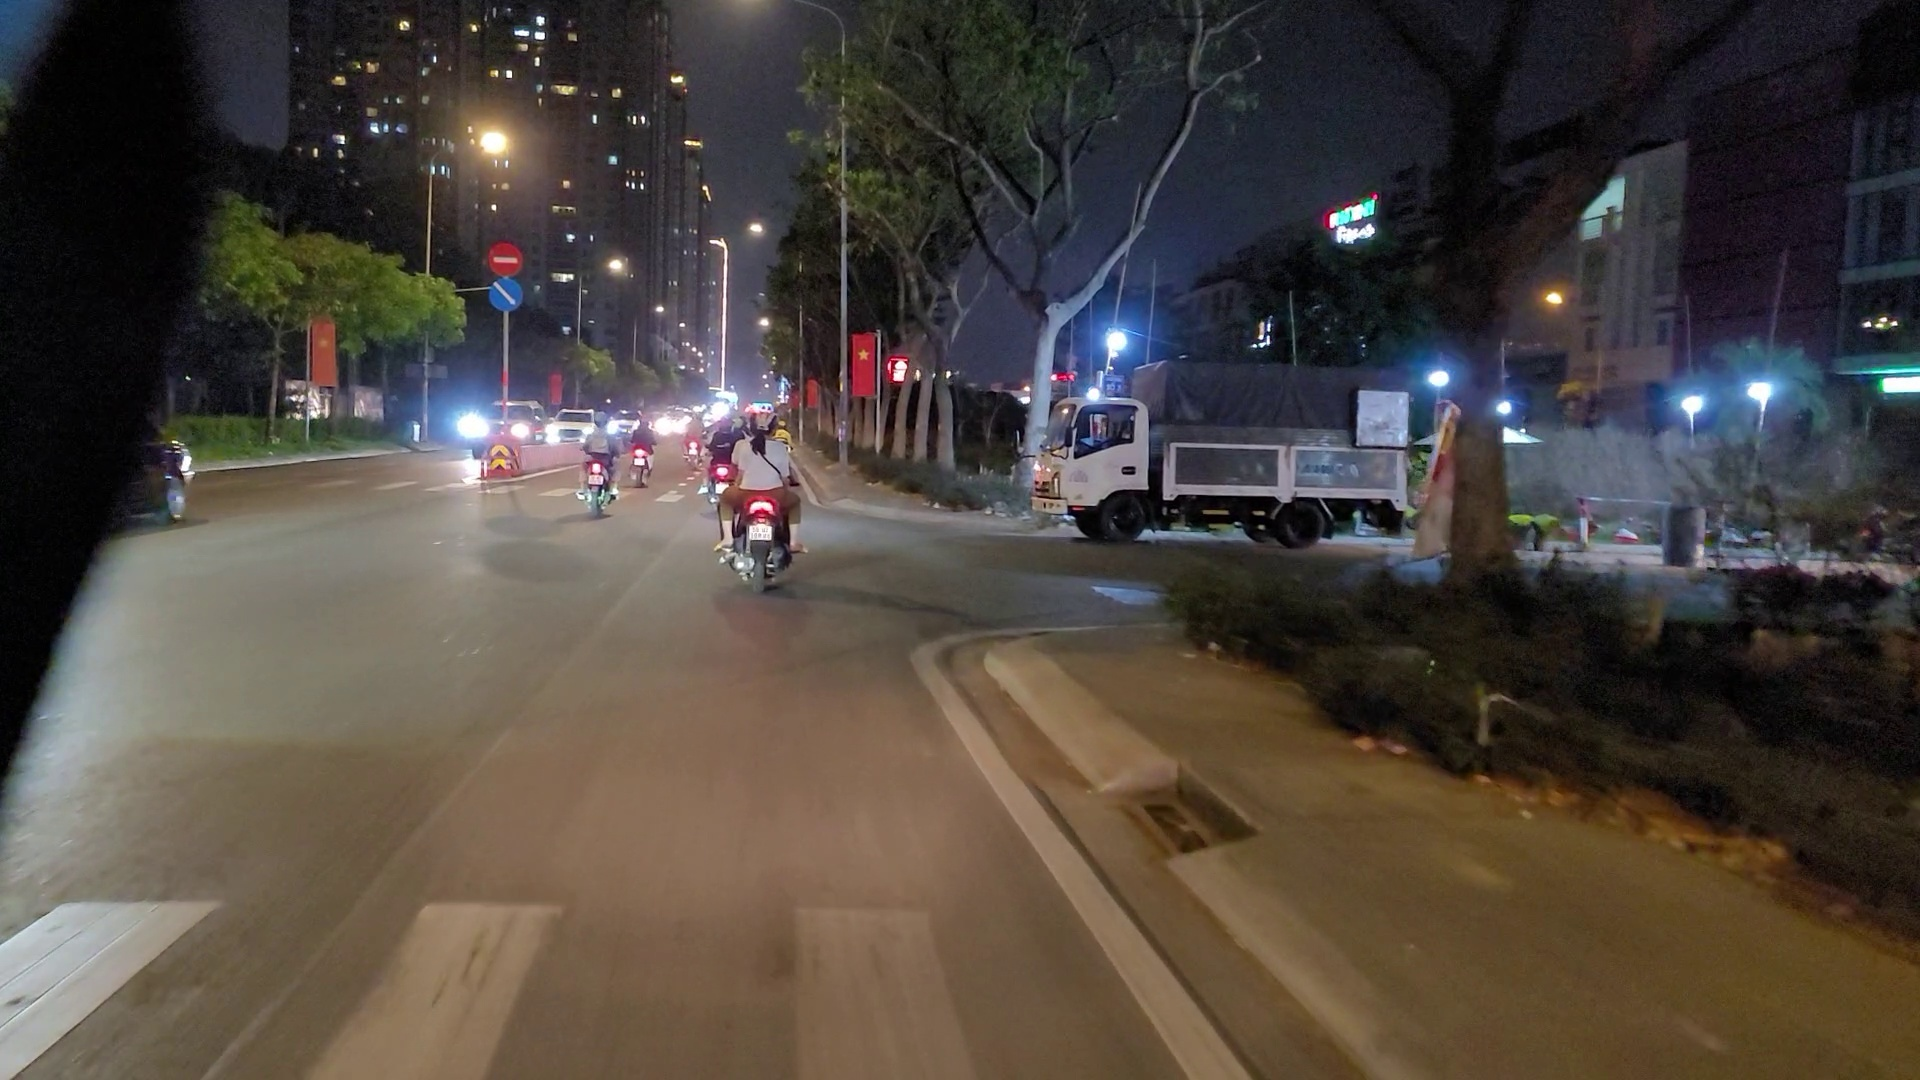Cam di nguoc chieu: (485, 239, 525, 276)
Huong di phai re phai: (488, 273, 524, 313)
